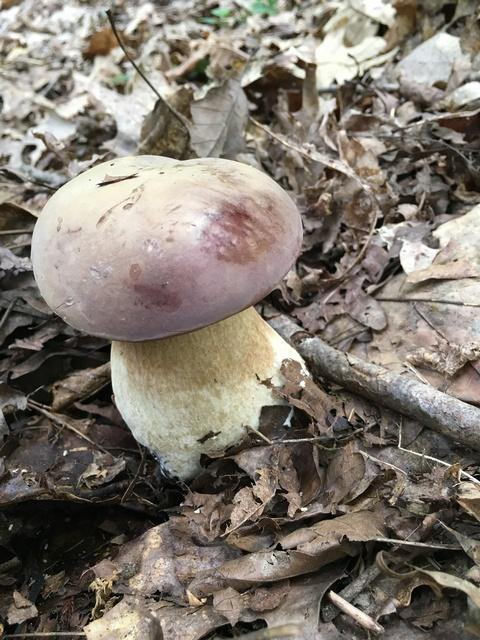poisonous_mushroom: (28, 152, 320, 485)
